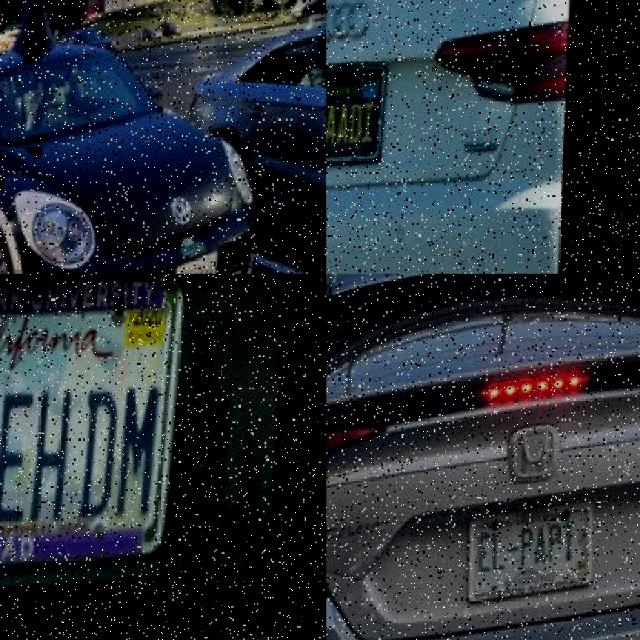licenseplate: (0, 274, 174, 581), (472, 508, 597, 607), (326, 66, 388, 176)
